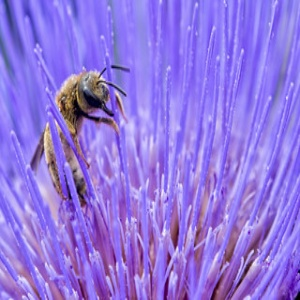bee: (29, 61, 135, 215)
